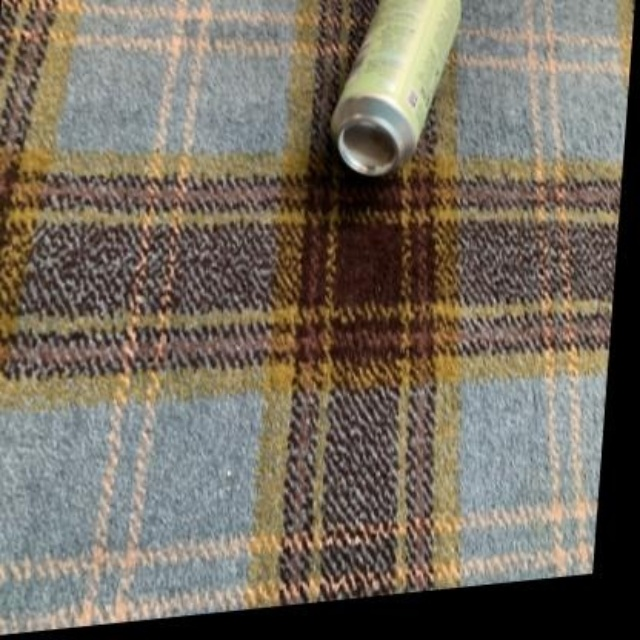trash: (331, 0, 460, 174)
